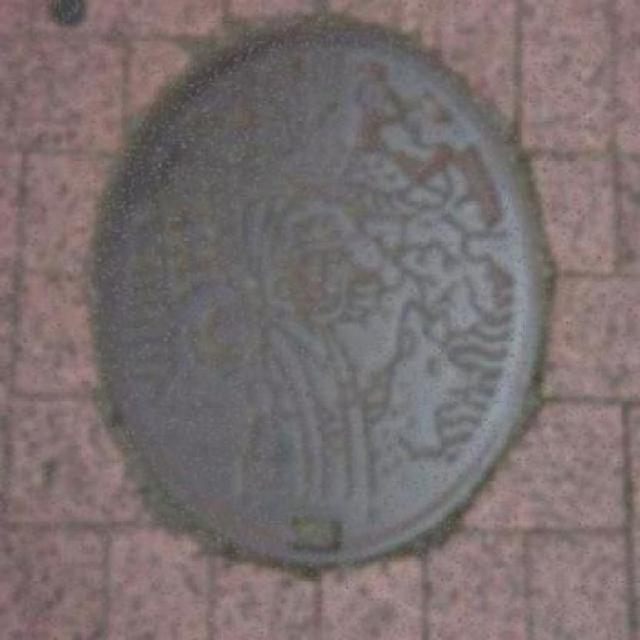Manhole: (64, 14, 572, 592)
